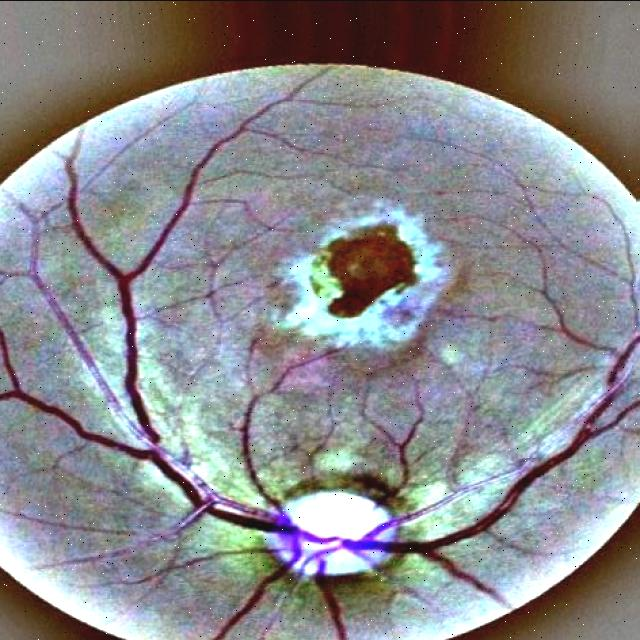Macula: (323, 225, 415, 316)
Nerves: (0, 103, 640, 640), (376, 407, 423, 484)
Optic Disk: (268, 489, 397, 578)
